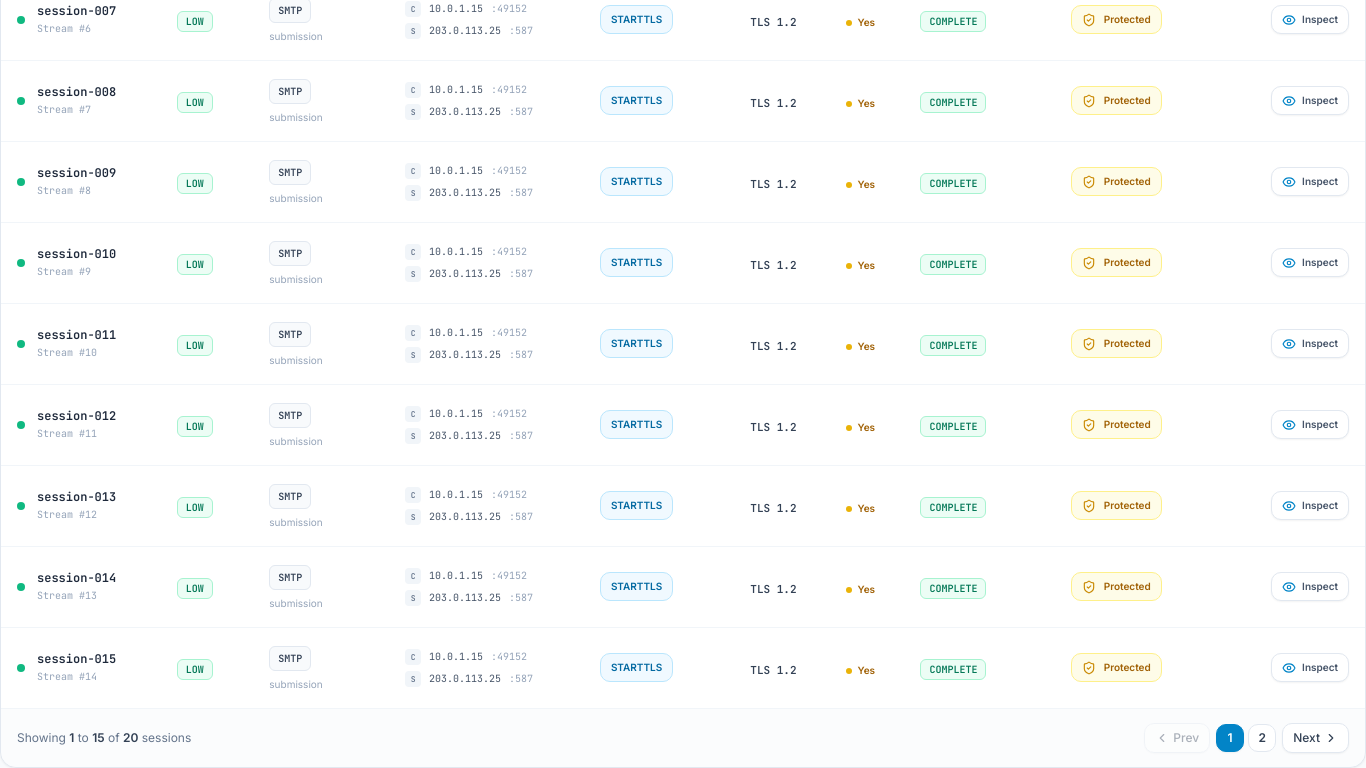
Scenario: Frontend Component Unit & Integration Tests › SessionTable › paginates sessions at 15 items per page and allows navigation
The width and height of the screenshot is (1366, 768).
(page scrolled)
Expected: the text "session-015" is shown, [37, 651, 116, 667]
Expected: the text "session-016" is not shown
Click Next page button
Click the button with aria-label "next page" at (1316, 738), box [1282, 722, 1349, 752]
(page scrolled)
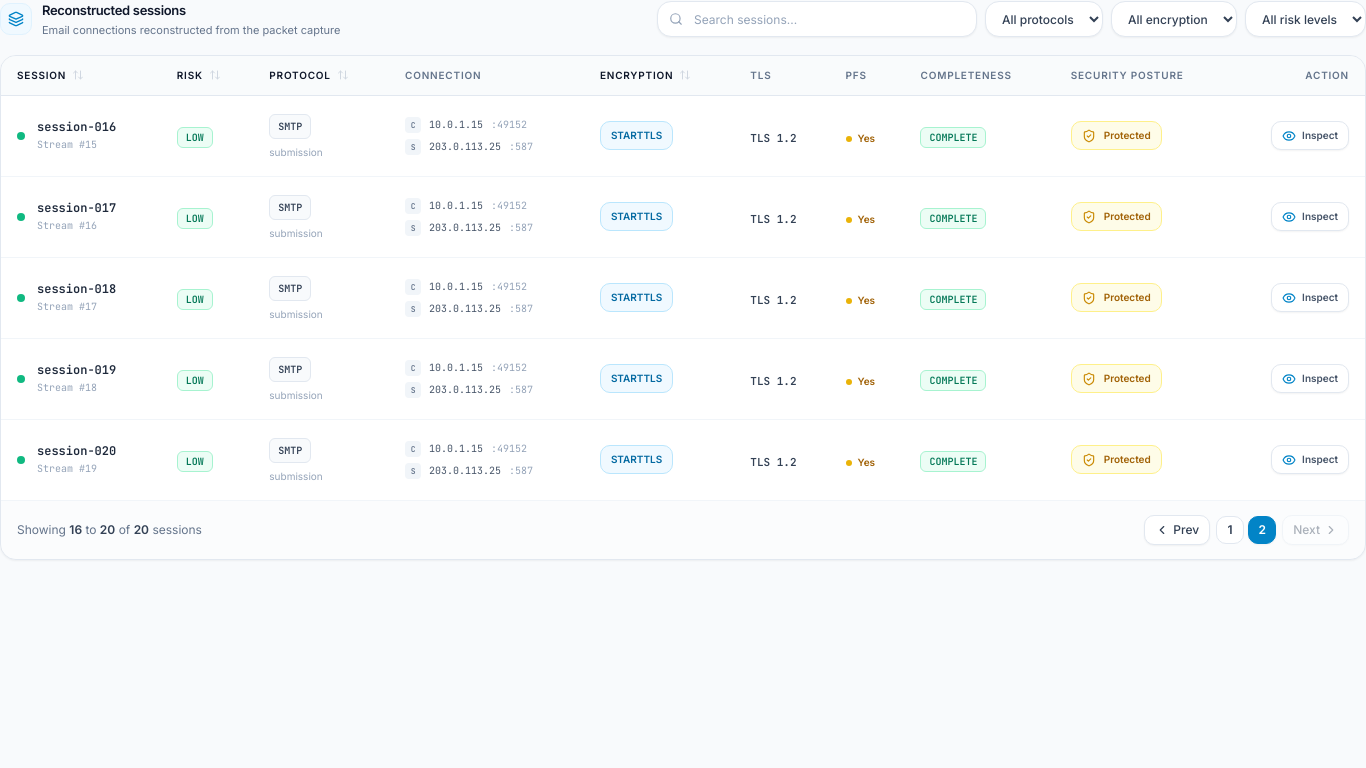
Now the text "session-016" is shown, box [37, 119, 116, 135]
Now the text "session-020" is shown, box [37, 443, 116, 459]
